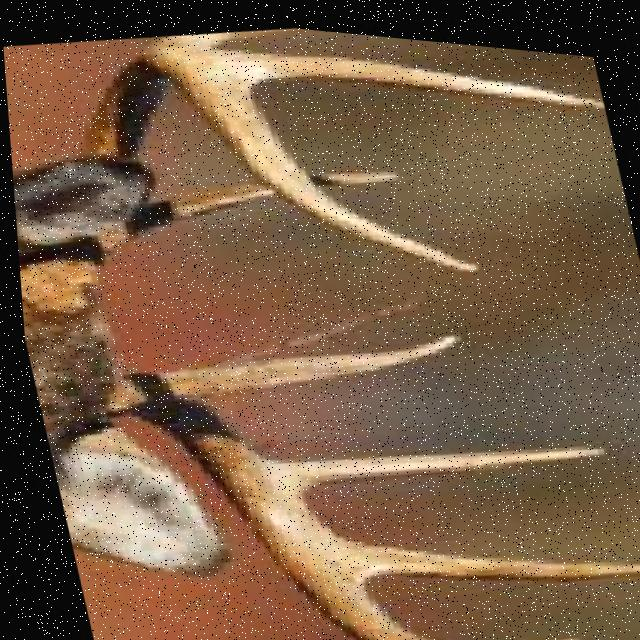L-F: (77, 39, 476, 265)
L-G2: (149, 22, 329, 43)
L-G3: (214, 45, 604, 98)
R-F: (103, 371, 573, 640)
R-G1: (152, 324, 459, 397)
R-G2: (260, 432, 601, 486)
R-G3: (338, 536, 640, 575)
